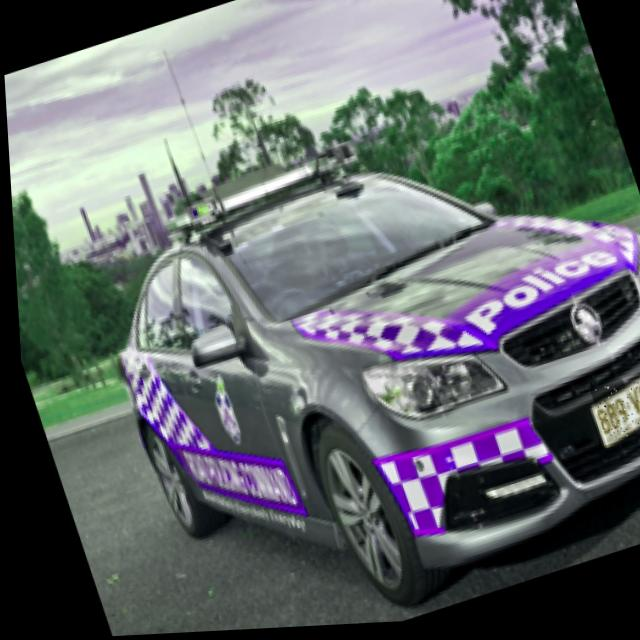license_plate: (584, 374, 640, 451)
